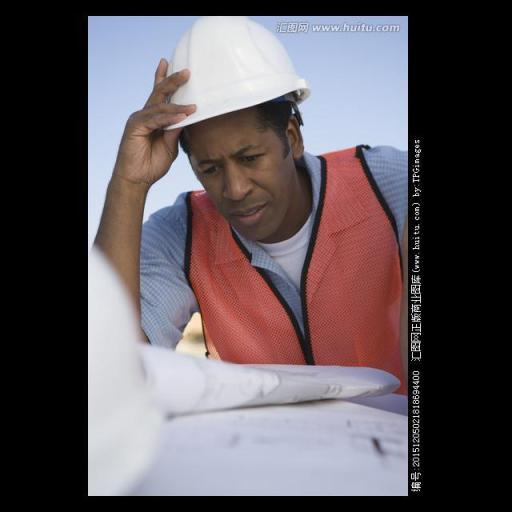Person: (103, 0, 417, 419)
helmet: (155, 15, 311, 134)
vest: (180, 156, 401, 368)
